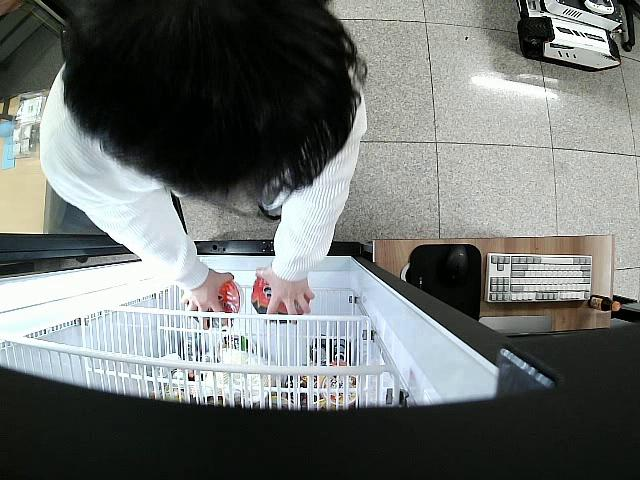00_hand: (256, 265, 315, 326), (180, 267, 235, 330)
01_shinRamen_L: (188, 277, 246, 330), (251, 276, 303, 322)
